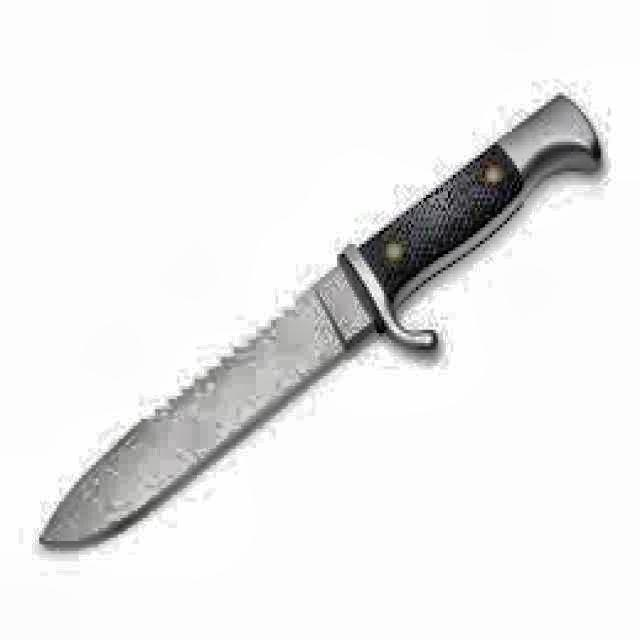knife: (35, 83, 606, 560)
